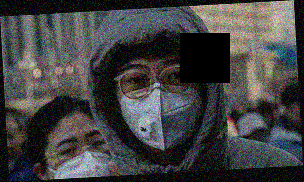with_mask: (116, 56, 204, 154), (43, 127, 114, 178)
